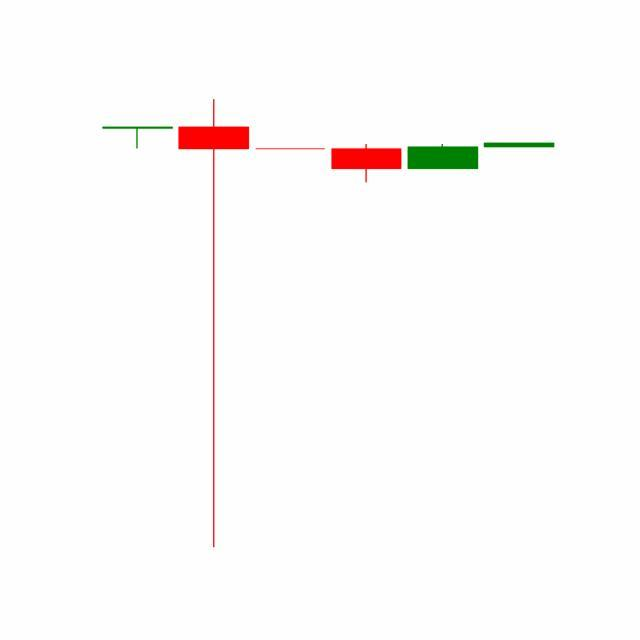Marubozu: (404, 144, 482, 170)
